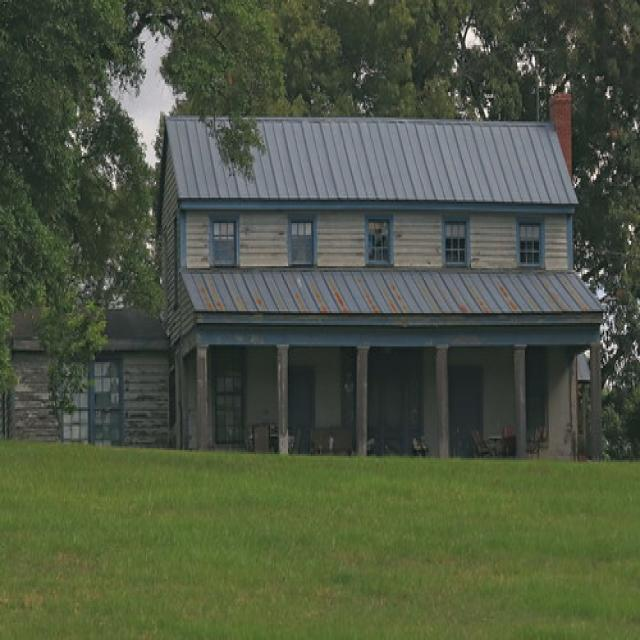Normal_building: (153, 103, 611, 465), (4, 301, 173, 449)
